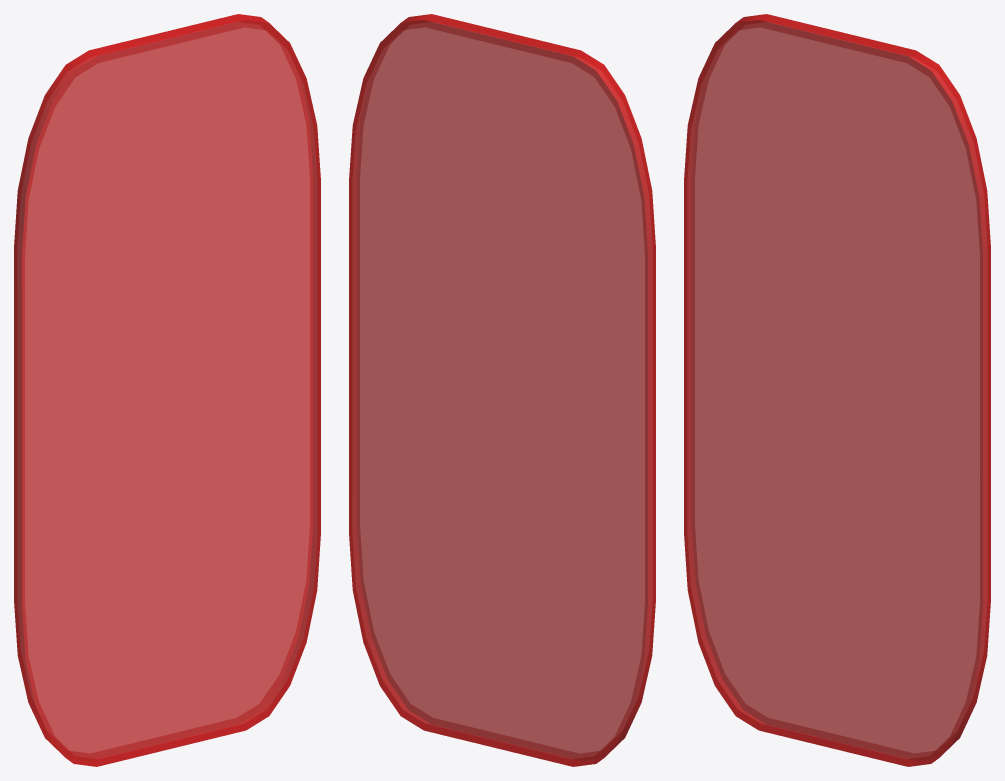
The model's file is redScreen.fbx.
3 views of the same model, side by side, from view 1: azimuth 30°, elevation 25°; view 2: azimuth 150°, elevation 25°; view 3: azimuth 330°, elevation 25° (orthographic).
Parts seen in each view (by area): view 1: greenScreen2; view 2: greenScreen2; view 3: greenScreen2.
Boxes of the visible parts, x1,y1,x2,y2 form: greenScreen2: [14, 14, 320, 766]; greenScreen2: [349, 14, 655, 766]; greenScreen2: [684, 14, 990, 766].
Bounding box in the file's own units: 3.09 × 7.02 × 0.1433.
